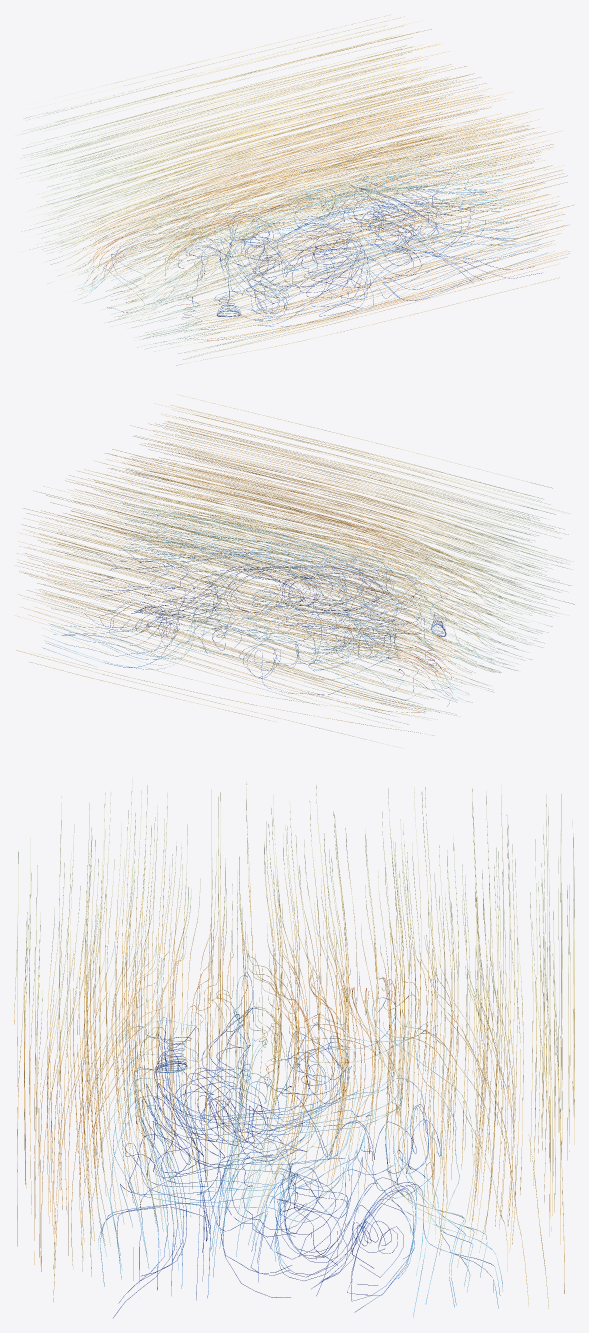
The model's file is buildings_streamlines.dae.
The picture shows the model from 3 angles, top to bottom: view 1: azimuth 30°, elevation 25°; view 2: azimuth 150°, elevation 25°; view 3: azimuth 270°, elevation 25°; orthographic projection. The views are drawn at different scales.
Parts seen in each view (by area): view 1: Renderer Node.001; view 2: Renderer Node.001; view 3: Renderer Node.001.
Part boxes in pixels (x1,y1,x2,y2): Renderer Node.001: (14,14,574,365); Renderer Node.001: (15,394,574,748); Renderer Node.001: (14,777,574,1317).
Size of the model in its own units: 350 by 279 by 140.
1 material, 1 textured.
